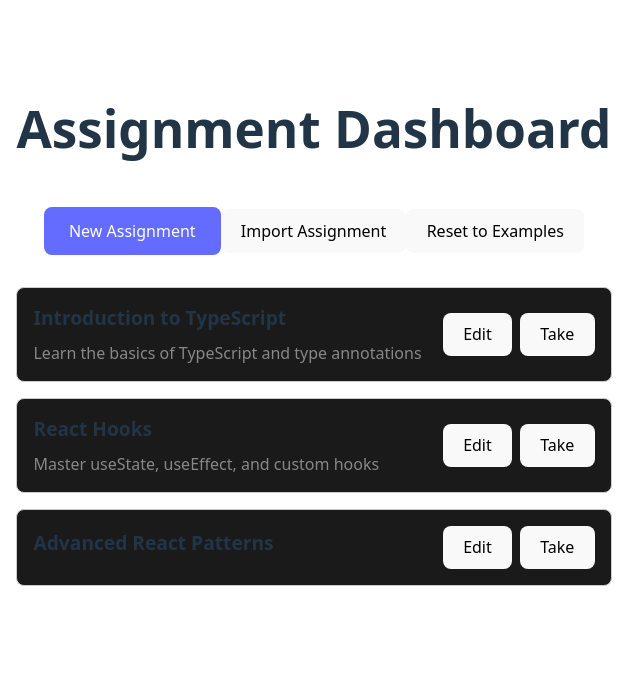
Scenario: App Component › App component creates multiple new assignments with unique IDs
The width and height of the screenshot is (629, 697).
Click twice to create two new assignments
Click the button with test id "new-assignment-button".
click(132, 231)  # box x1=44 y1=207 x2=221 y2=255
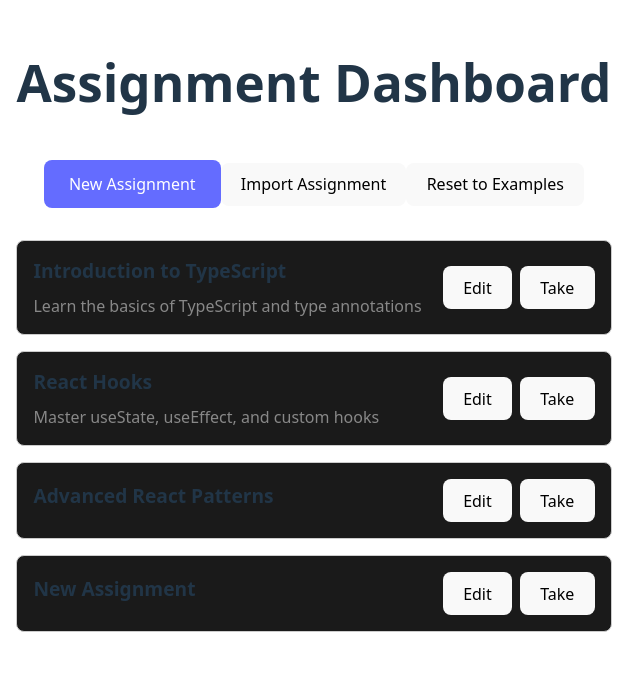
Click the button with test id "new-assignment-button".
click(132, 184)  # box x1=44 y1=160 x2=221 y2=208
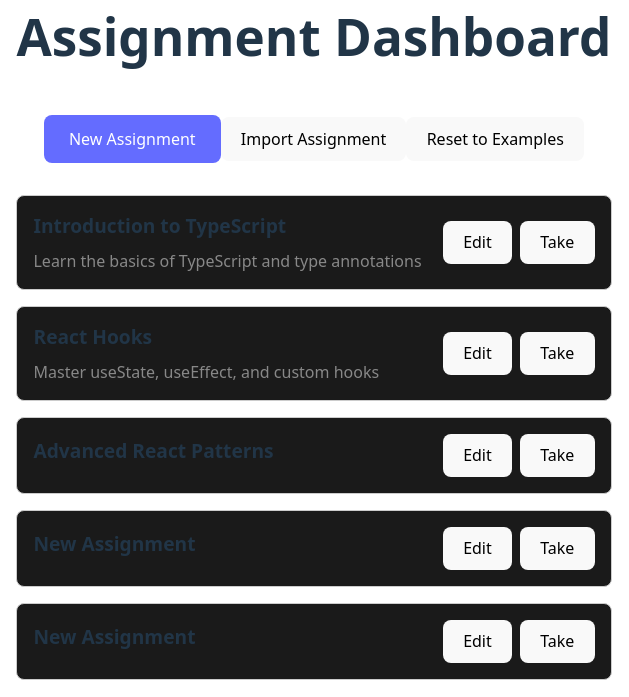
Check: the element with test id "assignment-4" is shown, box x1=16 y1=510 x2=612 y2=587
Check: the element with test id "assignment-5" is shown, box x1=16 y1=603 x2=612 y2=680
Check: the number of buttons "Edit" is 10
